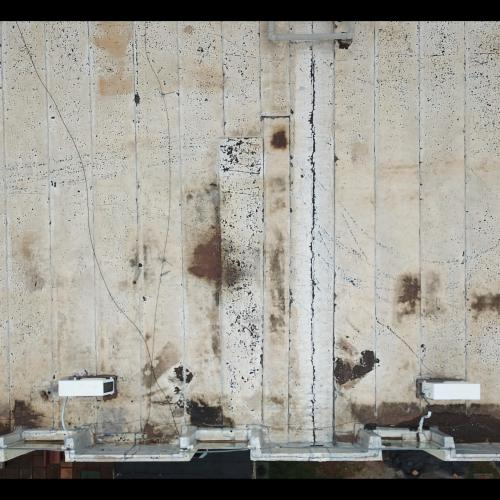conde: (418, 375, 489, 406), (52, 372, 122, 403)
